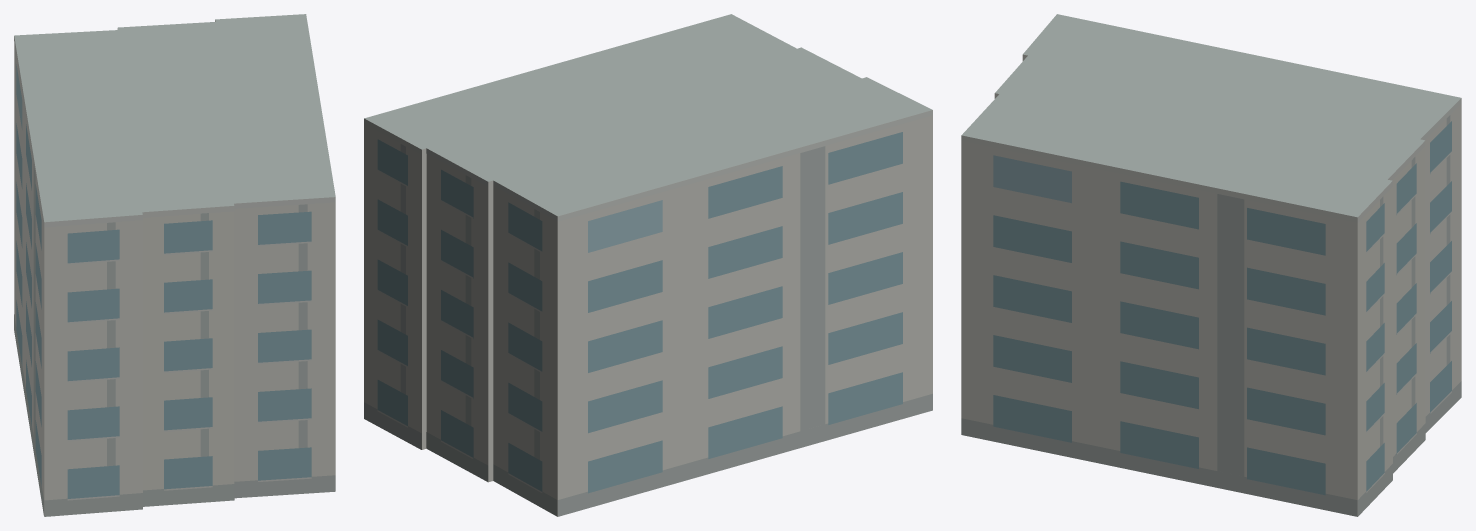
File: survey-upis-33036355.glb
The picture shows the model from 3 angles, left to right: view 1: azimuth 30°, elevation 25°; view 2: azimuth 150°, elevation 25°; view 3: azimuth 270°, elevation 25°; orthographic projection.
Parts seen in each view (by area): view 1: survey-upis-33036355.tmp; view 2: survey-upis-33036355.tmp; view 3: survey-upis-33036355.tmp.
Boxes of the visible parts, bbox=[...] form: survey-upis-33036355.tmp: bbox=[14, 14, 335, 516]; survey-upis-33036355.tmp: bbox=[364, 14, 932, 516]; survey-upis-33036355.tmp: bbox=[961, 14, 1461, 516].
Bounding box in the file's own units: 19.22 × 13.2 × 19.98.
